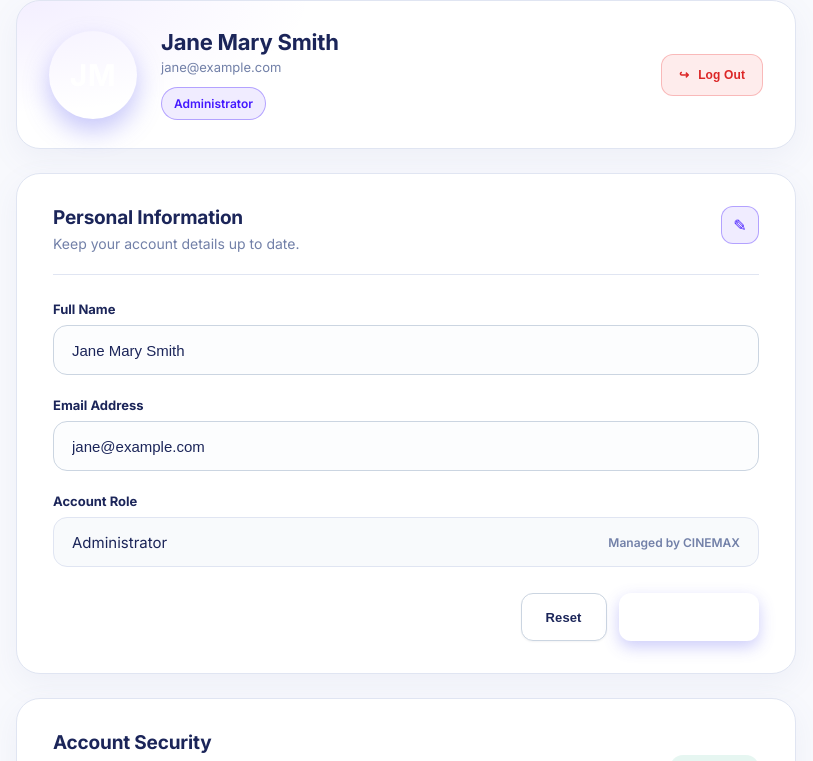
Test case: AdminProfile › updates the profile successfully
Replace the text in the field labelled "Full Name" with "  Jane Tan  ": {"x": 406, "y": 350} [53,325,759,375]
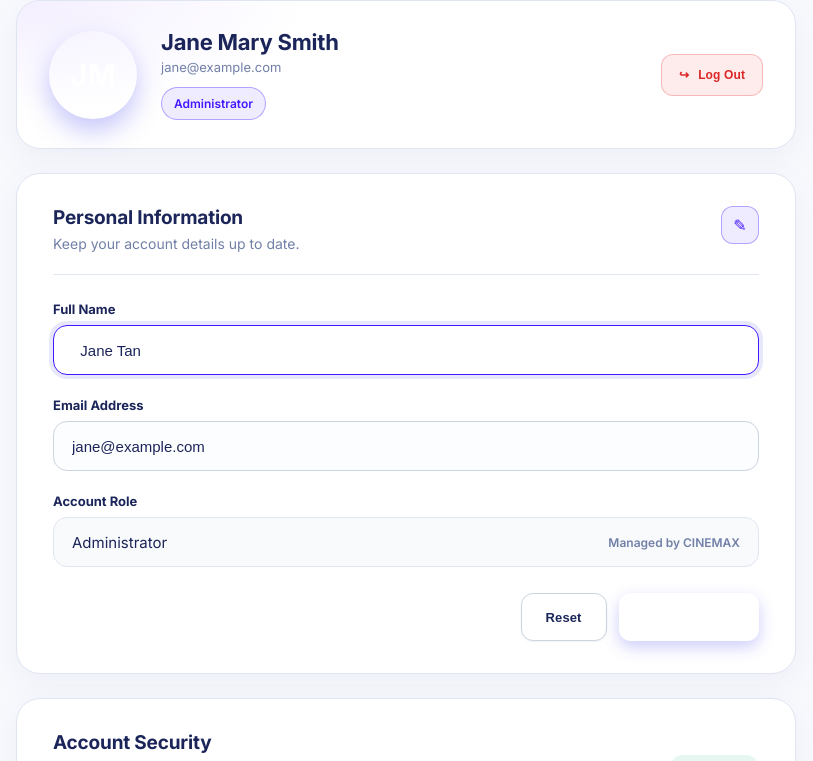
Replace the text in the field labelled "Email Address" with "  jane.tan@example.com  ": {"x": 406, "y": 446} [53,421,759,471]
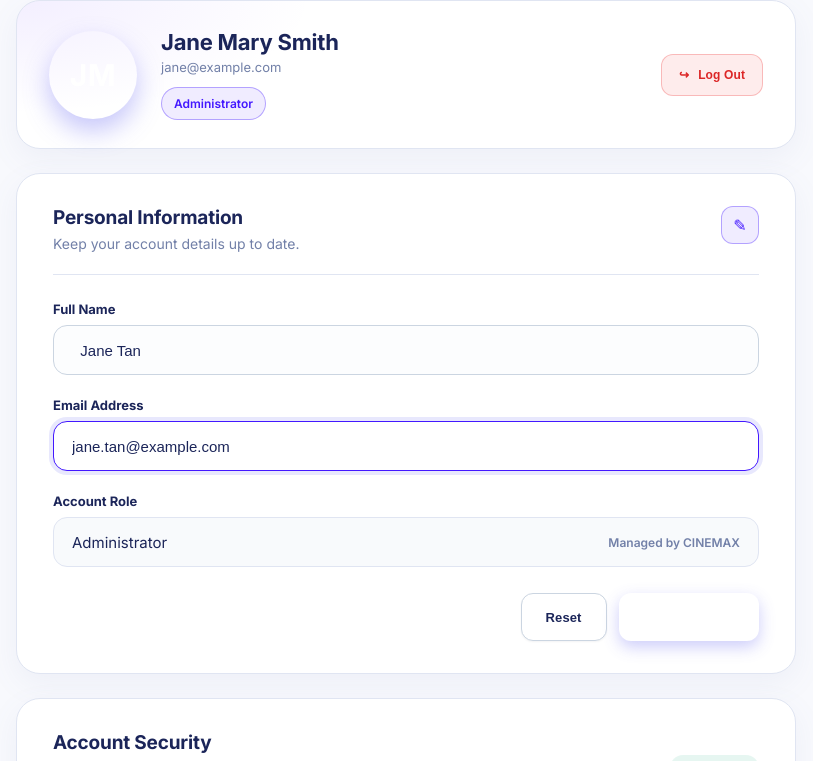
Click the button "Save Changes": {"x": 689, "y": 617} [619,593,759,641]
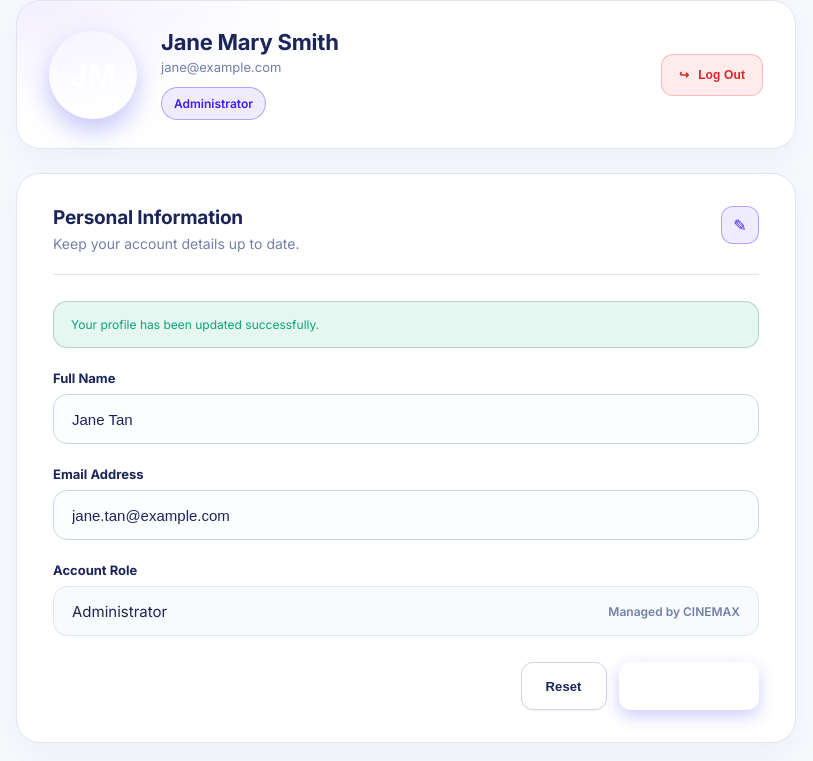
Expected: the message reads "Your profile has been updated successfully.", [71,317,319,332]
